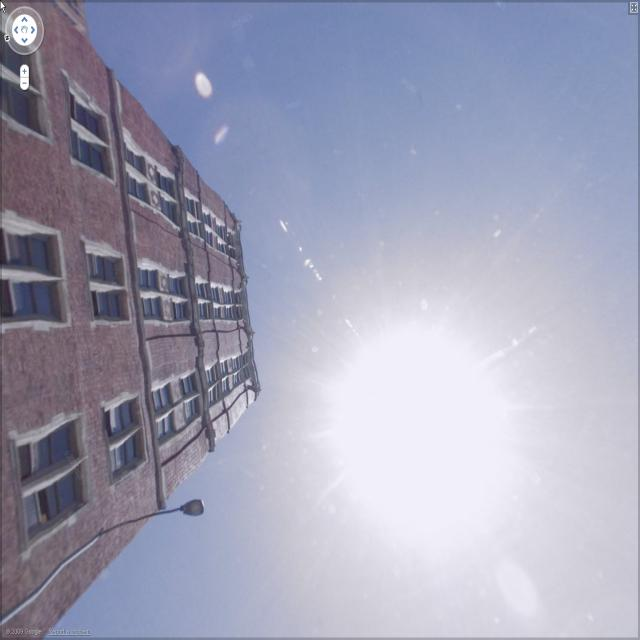b_1: (2, 8, 264, 633)
